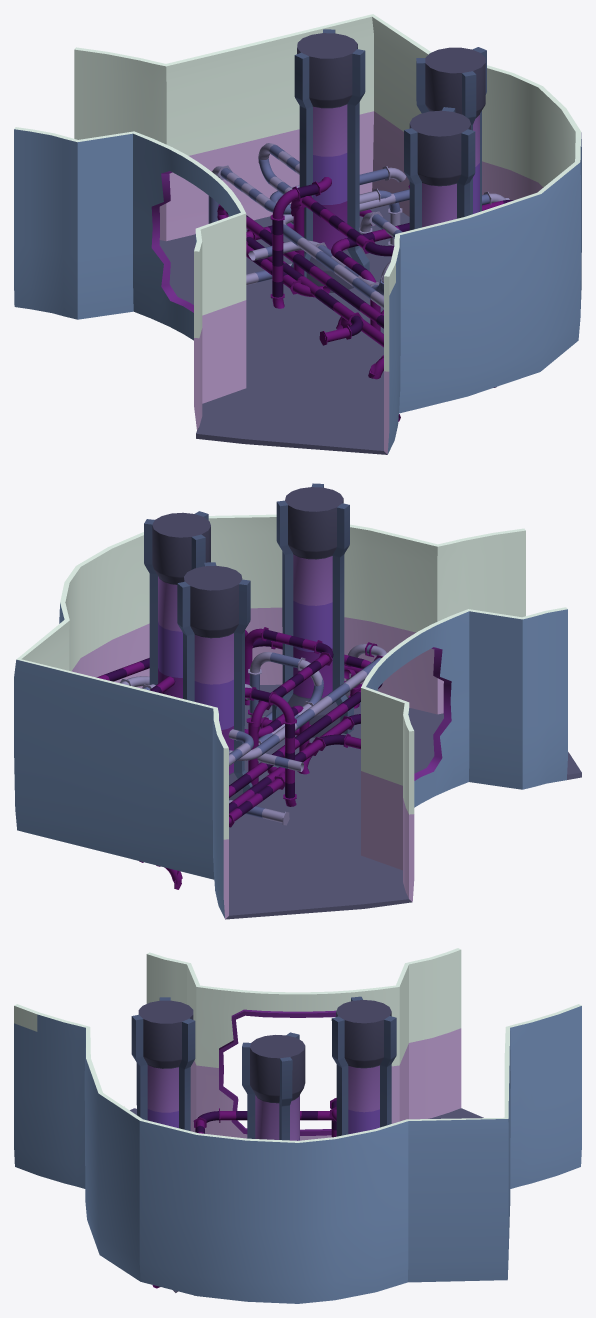
File: pipesbase.obj
3 views of the same model, one above another, from view 1: azimuth 30°, elevation 25°; view 2: azimuth 150°, elevation 25°; view 3: azimuth 270°, elevation 25° (orthographic). The views are drawn at different scales.
Parts seen in each view (by area): view 1: Pipes_room, pipes_room_reservoir, pipes_room_reservoir.002, pipes_room_reservoir.001, Pipe.002, Pipe.003, Pipe.007, Pipe.009, Pipe.008, Pipe.001, Pipe.013; view 2: Pipes_room, pipes_room_reservoir.002, pipes_room_reservoir, pipes_room_reservoir.001, Pipe.003, Pipe.002, Pipe.008, Pipe.009, Pipe.001; view 3: Pipes_room, pipes_room_reservoir, pipes_room_reservoir.002, pipes_room_reservoir.001, Pipe.008.
Part boxes in pixels (x1,y1,x2,y2): Pipes_room: (14, 14, 581, 454); pipes_room_reservoir: (291, 29, 369, 292); pipes_room_reservoir.002: (404, 107, 475, 230); pipes_room_reservoir.001: (416, 47, 486, 214); Pipe.002: (217, 200, 513, 387); Pipe.003: (248, 188, 509, 379); Pipe.007: (208, 143, 409, 223); Pipe.009: (270, 177, 331, 308); Pipe.008: (269, 185, 394, 256); Pipe.001: (246, 209, 375, 297); Pipe.013: (359, 211, 402, 238); Pipes_room: (14, 514, 581, 919); pipes_room_reservoir.002: (272, 483, 353, 737); pipes_room_reservoir: (177, 562, 252, 800); pipes_room_reservoir.001: (144, 511, 210, 698); Pipe.003: (120, 642, 386, 774); Pipe.002: (96, 658, 382, 813); Pipe.008: (245, 627, 333, 733); Pipe.009: (245, 687, 296, 806); Pipe.001: (229, 767, 284, 827); Pipes_room: (14, 948, 581, 1303); pipes_room_reservoir: (331, 996, 396, 1136); pipes_room_reservoir.002: (131, 997, 195, 1130); pipes_room_reservoir.001: (242, 1032, 305, 1140); Pipe.008: (193, 1108, 334, 1133).
Bounding box in the file's own units: 29.24 × 17.13 × 36.
